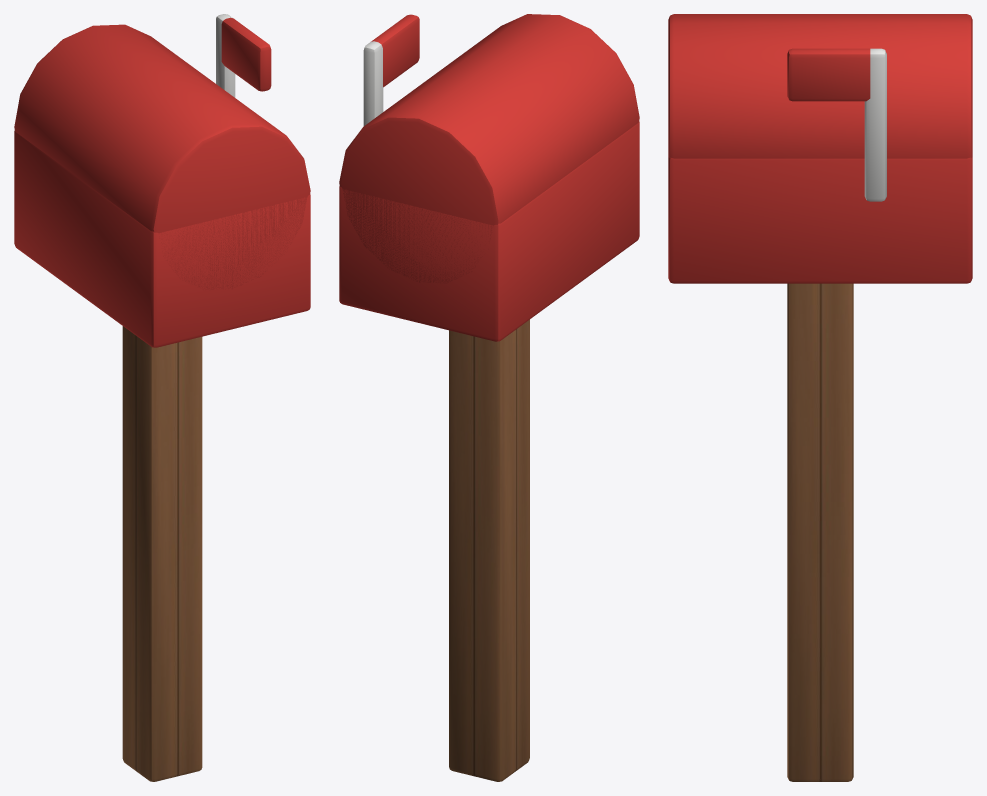
The model's file is mailbox.glb.
The picture shows the model from 3 angles, left to right: view 1: azimuth 30°, elevation 25°; view 2: azimuth 150°, elevation 25°; view 3: azimuth 270°, elevation 25°; orthographic projection. The views are drawn at different scales.
Parts seen in each view (by area): view 1: mailbox; view 2: mailbox; view 3: mailbox.
Boxes of the visible parts, x1,y1,x2,y2 form: mailbox: [14, 14, 310, 781]; mailbox: [339, 14, 639, 781]; mailbox: [668, 14, 972, 781].
Bounding box in the file's own units: 0.395 × 1.53 × 0.55.
3 materials, 3 textured.
